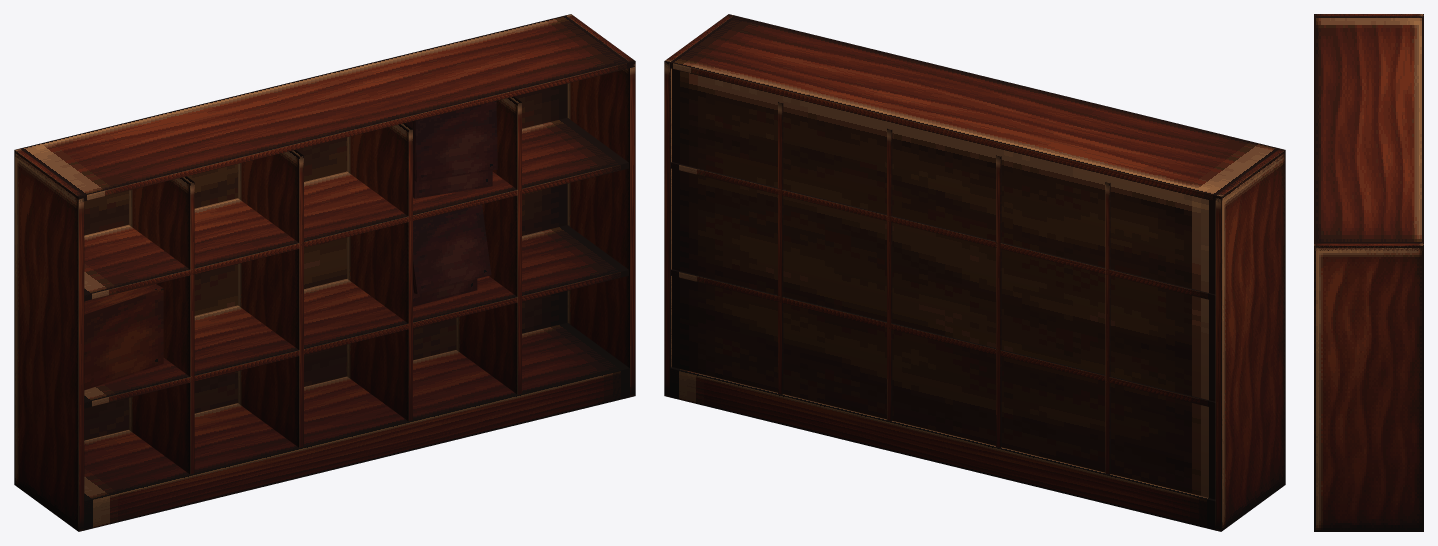
File: prop_lockerrow-3.glb
The picture shows the model from 3 angles, left to right: view 1: azimuth 30°, elevation 25°; view 2: azimuth 150°, elevation 25°; view 3: azimuth 270°, elevation 25°; orthographic projection. The views are drawn at different scales.
Parts seen in each view (by area): view 1: prop_lockerrow-3; view 2: prop_lockerrow-3; view 3: prop_lockerrow-3.
Boxes of the visible parts, left/top/right/bottom form: prop_lockerrow-3: left=14, top=14, right=635, bottom=531; prop_lockerrow-3: left=664, top=14, right=1285, bottom=531; prop_lockerrow-3: left=1314, top=14, right=1423, bottom=531.
Size of the model in its own units: 2 by 1.15 by 0.4.
Materials: 4 (4 with a texture image).
